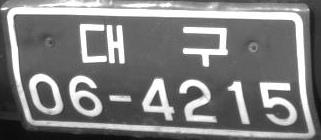0: (26, 71, 64, 115)
1: (223, 81, 255, 125)
2: (178, 77, 218, 123)
4: (141, 77, 175, 121)
5: (258, 81, 298, 127)
6: (68, 74, 103, 117)
대구_D: (78, 21, 229, 67)
